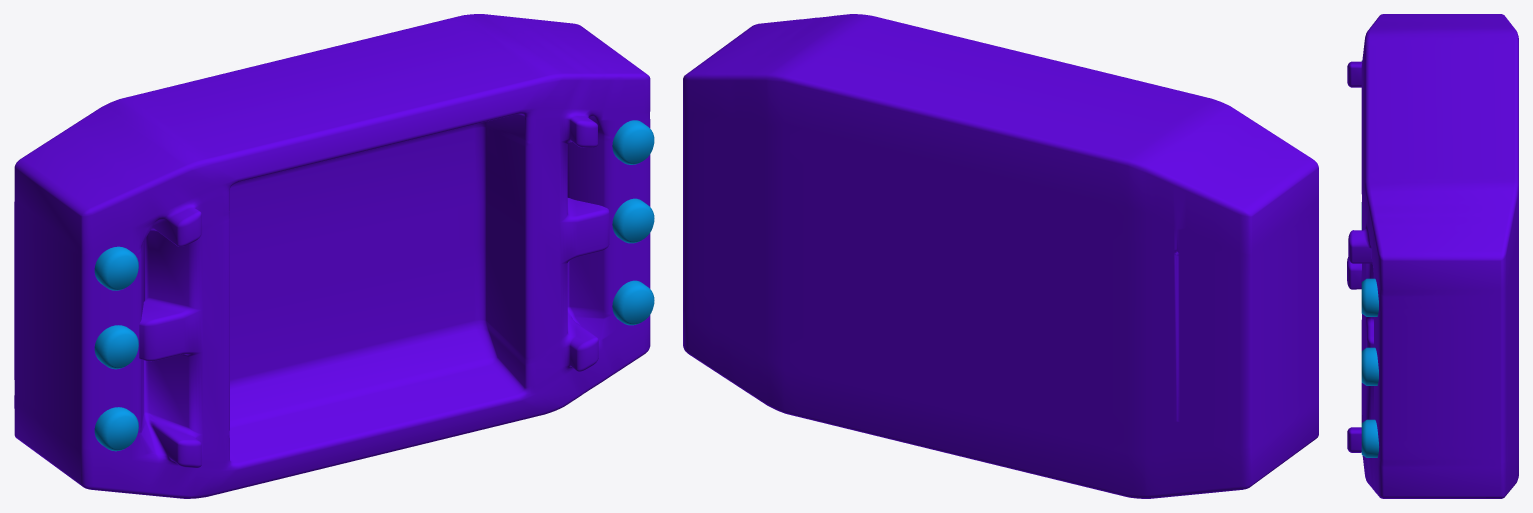
Rendered from Consola.fbx.
3 views of the same model, side by side, from view 1: azimuth 30°, elevation 25°; view 2: azimuth 150°, elevation 25°; view 3: azimuth 270°, elevation 25° (orthographic). The views are drawn at different scales.
Visible parts, largest first — view 1: Cube, Cylinder.001, Cylinder.003, Cylinder.002, Cylinder.004, Cylinder.006, Cylinder.005; view 2: Cube; view 3: Cube, Cylinder.004, Cylinder.005, Cylinder.006.
Part boxes in pixels (bbox=[...]): Cube: bbox=[14, 14, 650, 498]; Cylinder.001: bbox=[94, 246, 138, 290]; Cylinder.003: bbox=[94, 407, 138, 451]; Cylinder.002: bbox=[94, 325, 138, 369]; Cylinder.004: bbox=[612, 120, 654, 164]; Cylinder.006: bbox=[612, 280, 654, 325]; Cylinder.005: bbox=[612, 198, 654, 243]; Cube: bbox=[683, 14, 1318, 498]; Cube: bbox=[1347, 14, 1518, 498]; Cylinder.004: bbox=[1361, 278, 1378, 316]; Cylinder.005: bbox=[1361, 347, 1378, 385]; Cylinder.006: bbox=[1361, 419, 1378, 457].
Bounding box in the file's own units: 352 × 200 × 105.
